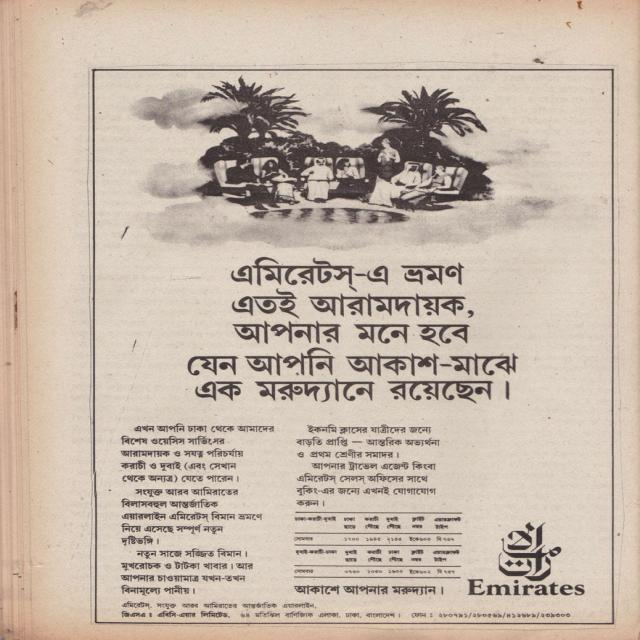advertisement: (87, 66, 620, 630)
